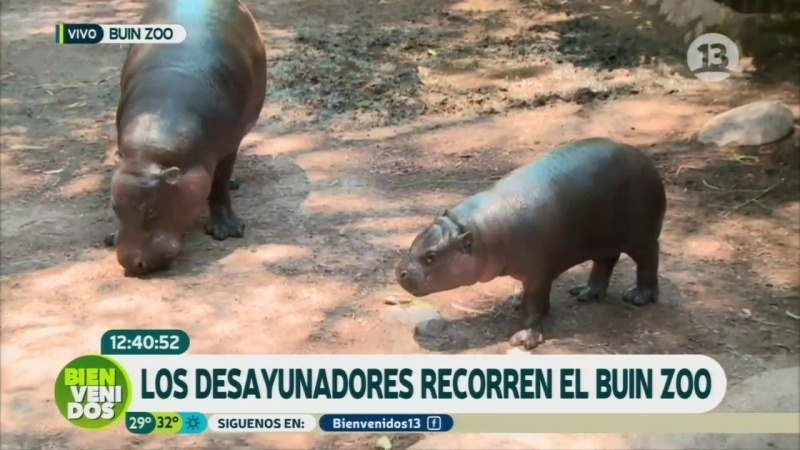hipopotamo: (384, 126, 680, 354), (101, 1, 279, 288)
